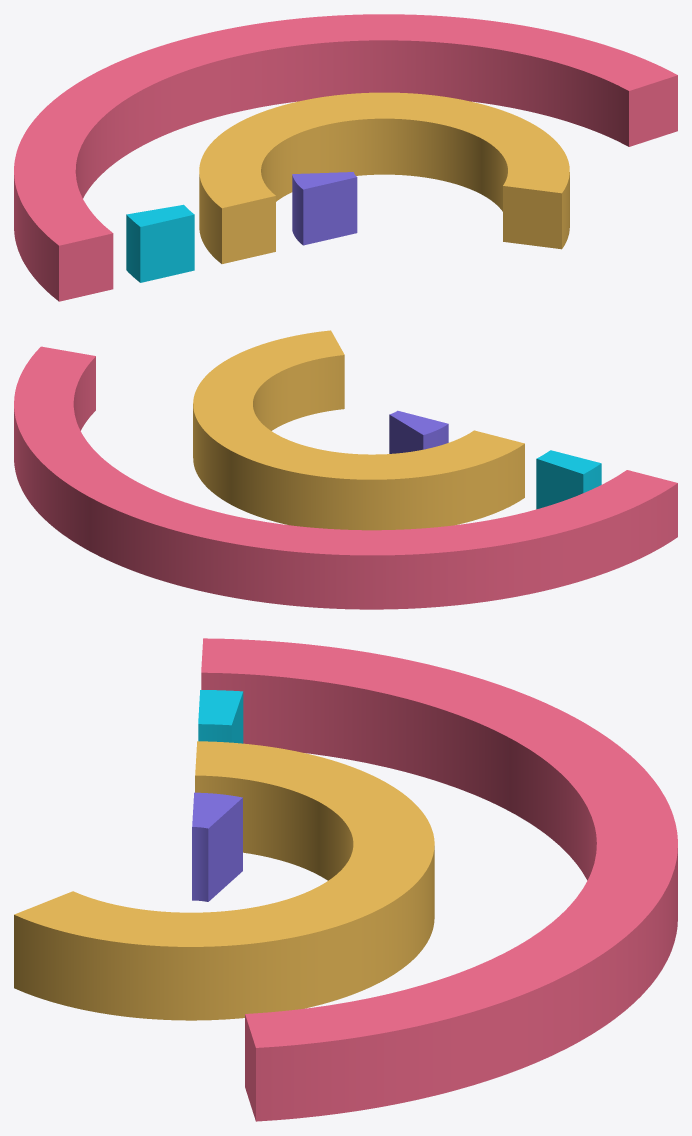
File: children3.fbx
3 views of the same model, one above another, from view 1: azimuth 30°, elevation 25°; view 2: azimuth 150°, elevation 25°; view 3: azimuth 270°, elevation 25° (orthographic). The views are drawn at different scales.
Parts seen in each view (by area): view 1: Children_2_obj; view 2: Children_2_obj; view 3: Children_2_obj.
Boxes of the visible parts, x1,y1,x2,y2 form: Children_2_obj: (14,14,677,301); Children_2_obj: (14,330,677,609); Children_2_obj: (14,638,677,1121).
Size of the model in its own units: 2.39 by 0.2 by 1.64.
